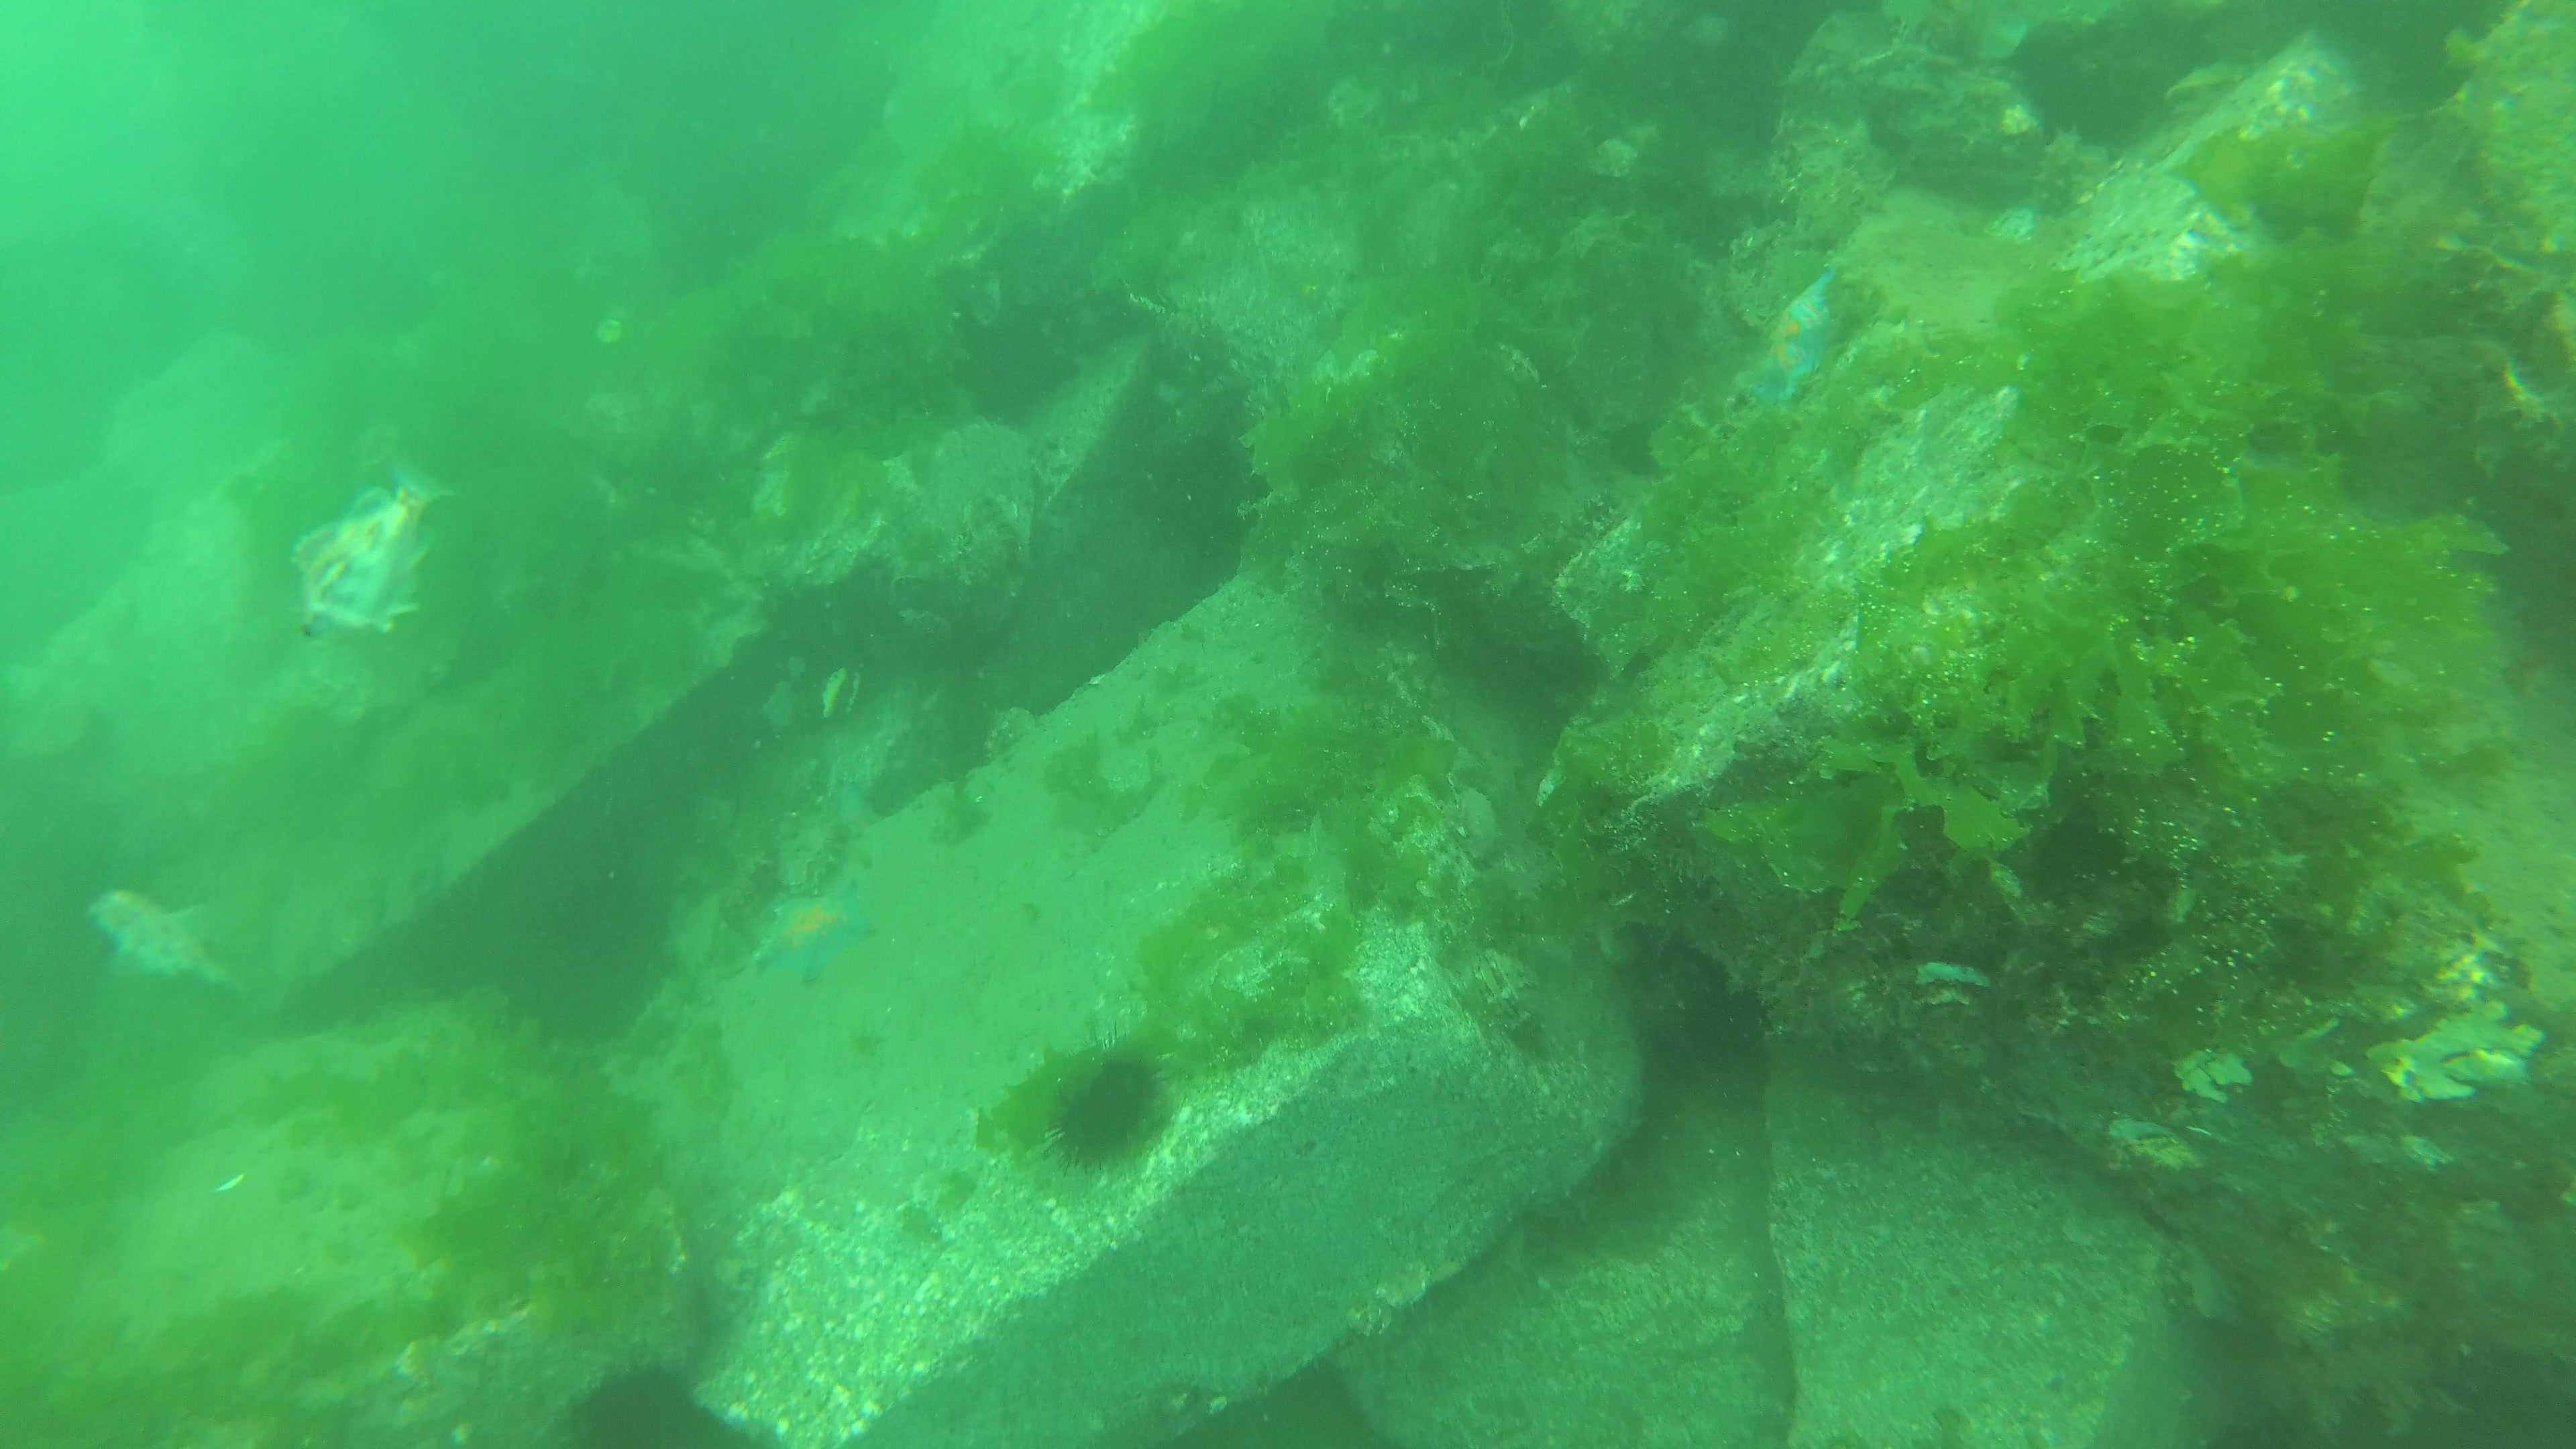echinus: (1053, 1053, 1157, 1171), (575, 1353, 699, 1449)
starfish: (754, 883, 876, 985), (1762, 274, 1835, 400), (837, 784, 879, 842)
